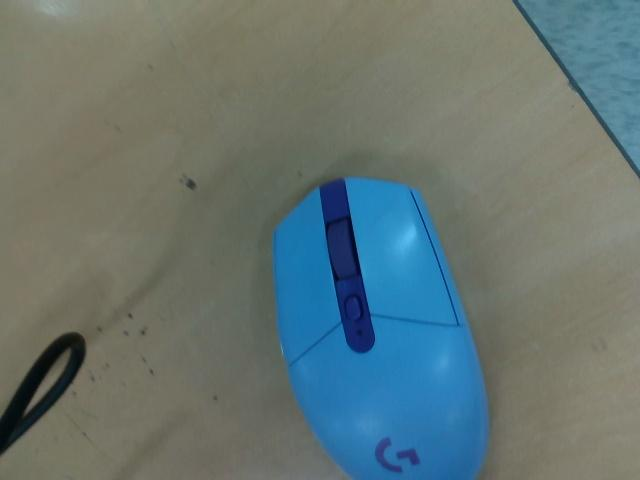mouse: (273, 177, 490, 479)
